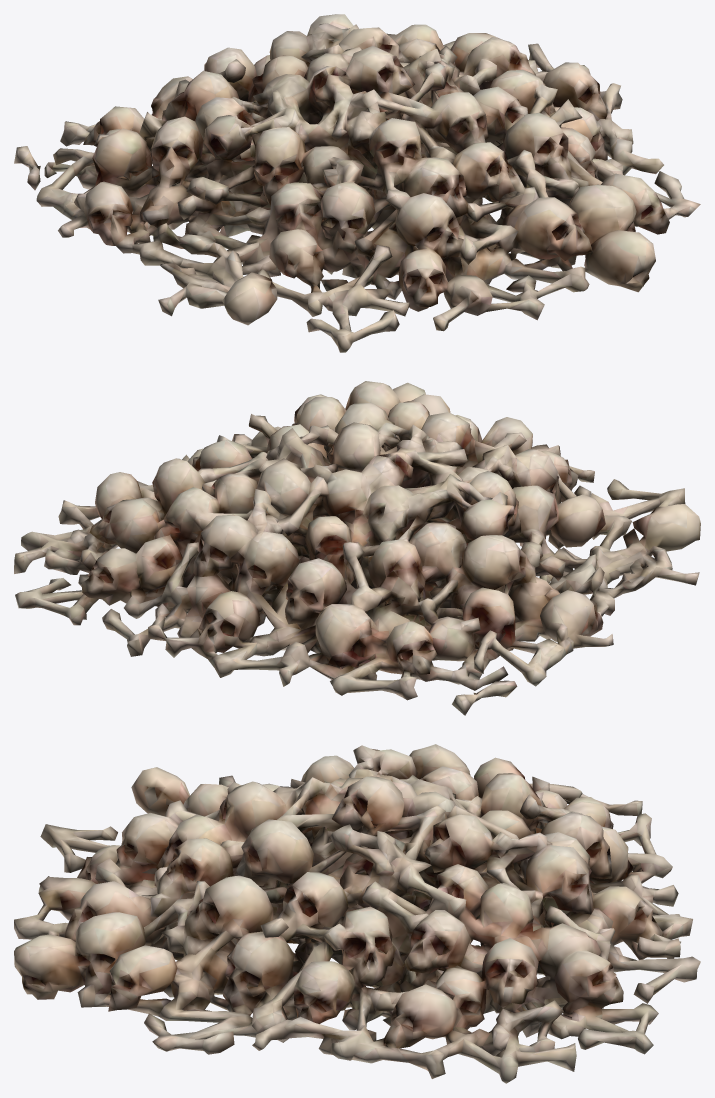
The model's file is bone_pile.glb.
The picture shows the model from 3 angles, top to bottom: view 1: azimuth 30°, elevation 25°; view 2: azimuth 150°, elevation 25°; view 3: azimuth 270°, elevation 25°; orthographic projection. The views are drawn at different scales.
Bounding box in the file's own units: 2 × 0.5113 × 1.95.
1 material, 1 textured.
